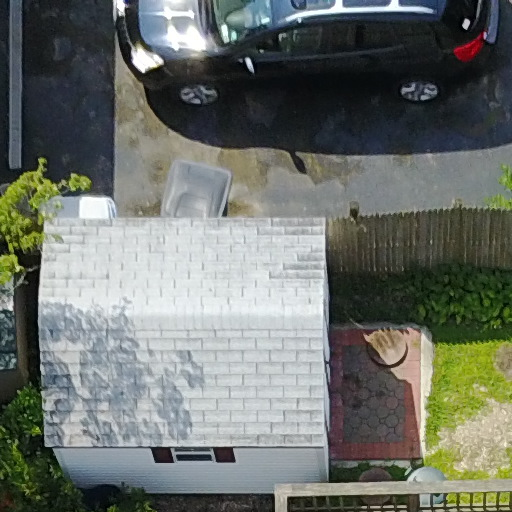container: (345, 459, 398, 512)
trash bin: (146, 142, 234, 237), (397, 460, 453, 512)
